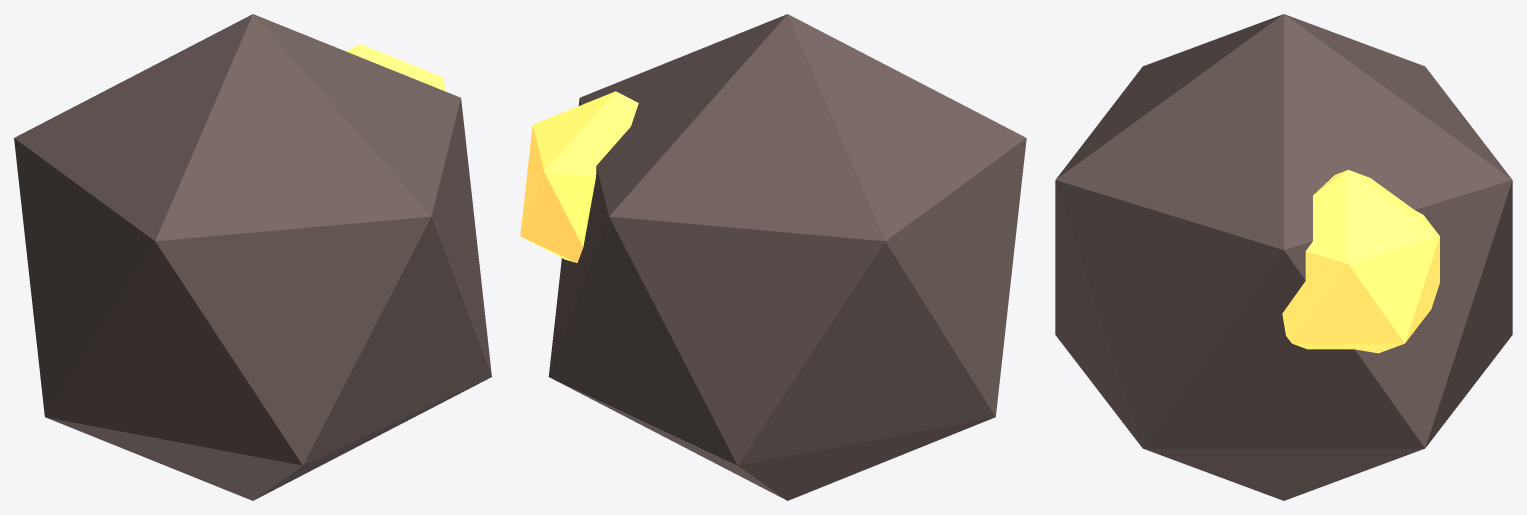
Rendered from meteor.glb.
3 views of the same model, side by side, from view 1: azimuth 30°, elevation 25°; view 2: azimuth 150°, elevation 25°; view 3: azimuth 270°, elevation 25° (orthographic).
Visible parts, largest first — view 1: meteor; view 2: meteor; view 3: meteor.
Part boxes in pixels (x1=…): meteor: x1=14, y1=14, x2=491, y2=500; meteor: x1=520, y1=14, x2=1026, y2=500; meteor: x1=1055, y1=14, x2=1512, y2=500.
Size of the model in its own units: 0.463 by 0.5 by 0.4253.
